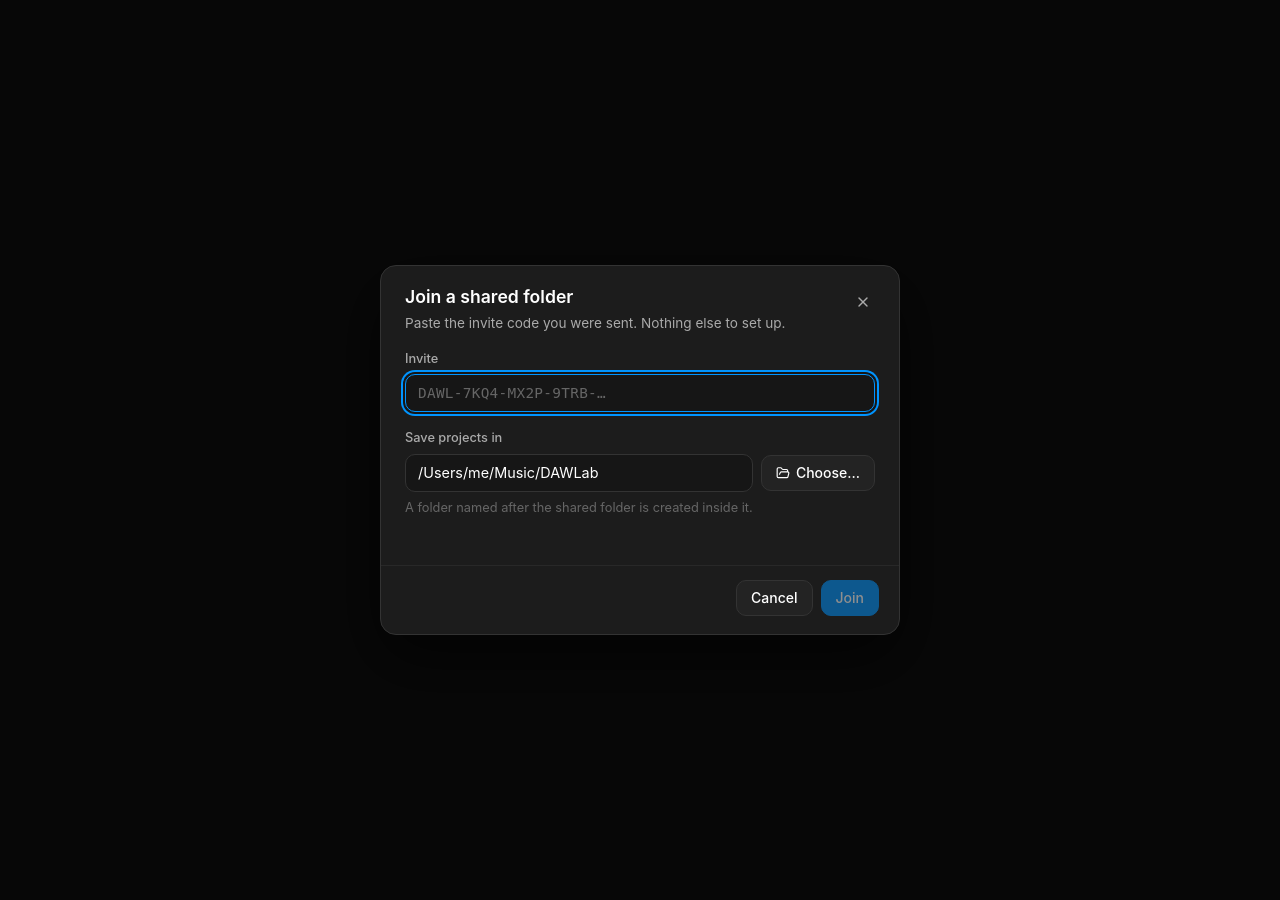
Test case: JoinFolderDialog › clicking the folder field opens the picker too
Click the field labelled "Save projects in". click: (579, 473)
box: [405,454,753,492]
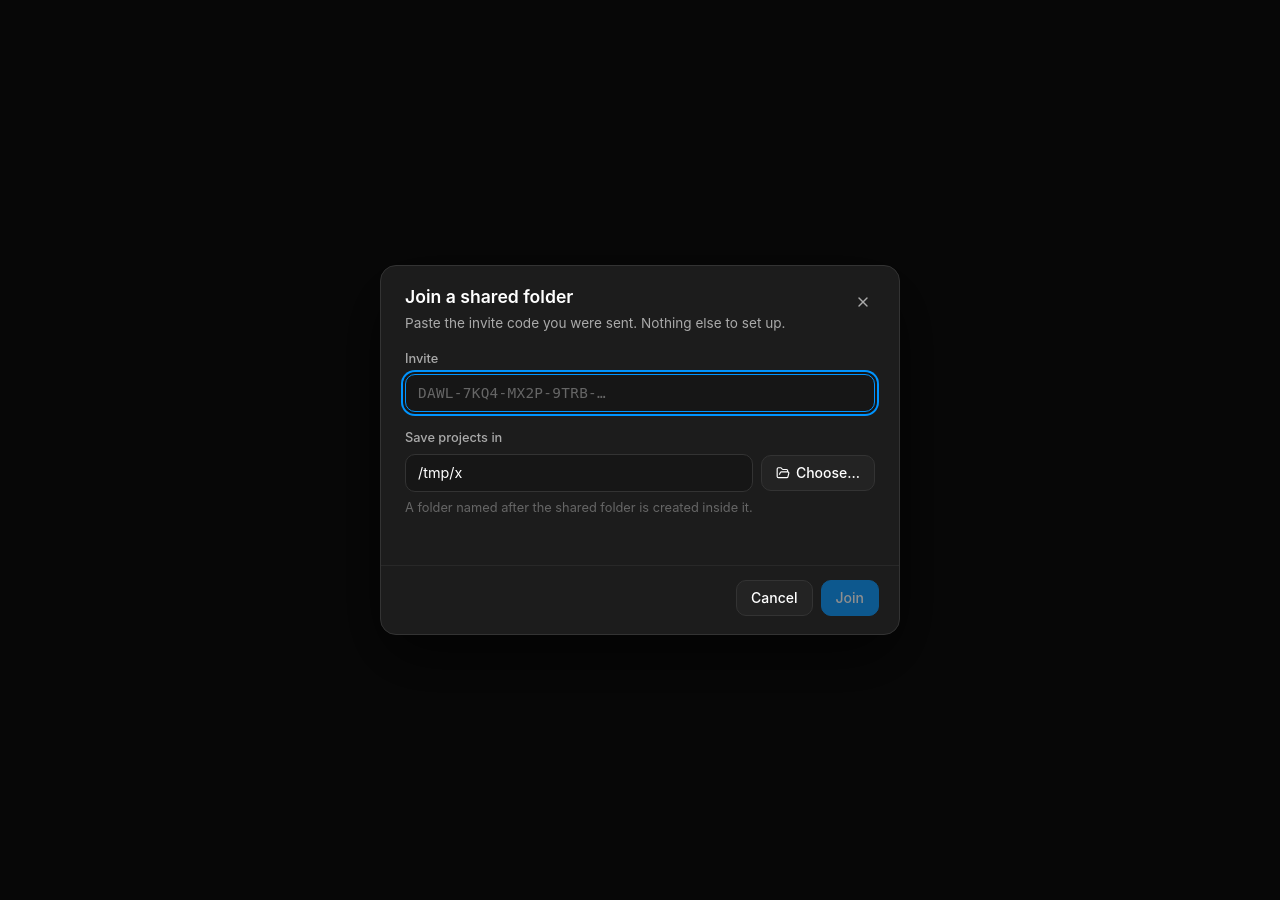
Result: the field labelled "Save projects in" holds "/tmp/x" at [405,454,753,492]
